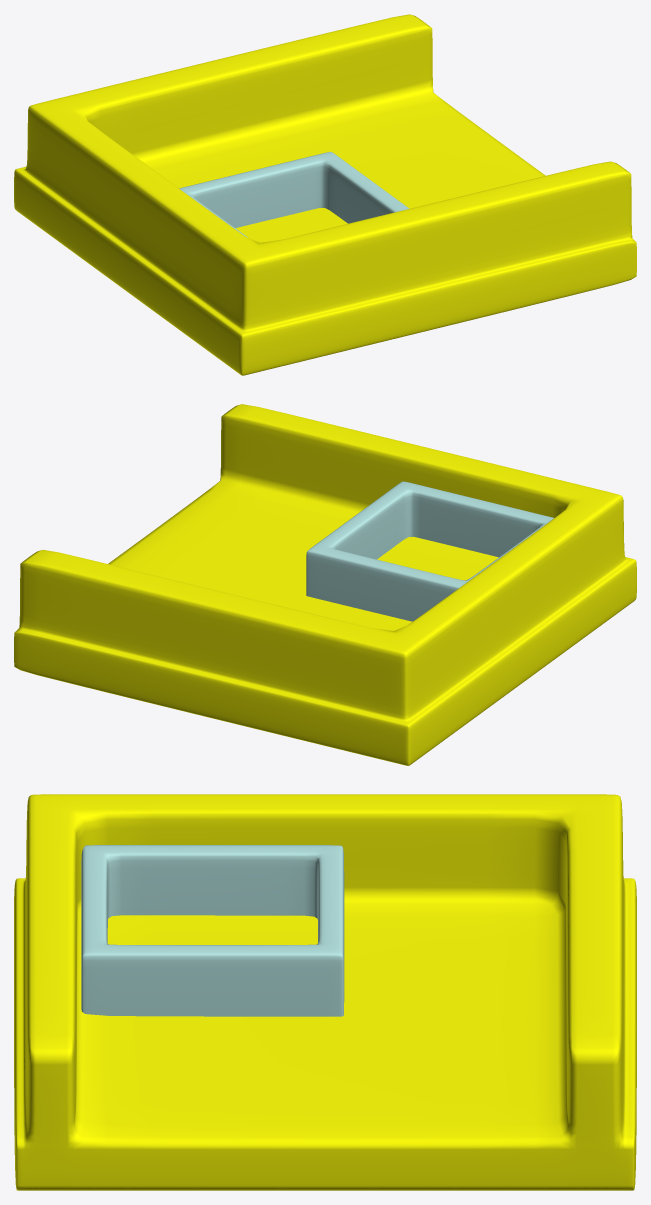
3 views of the same model, one above another, from view 1: azimuth 30°, elevation 25°; view 2: azimuth 150°, elevation 25°; view 3: azimuth 270°, elevation 25° (orthographic). The views are drawn at different scales.
Parts seen in each view (by area): view 1: polySurface1272; view 2: polySurface1272; view 3: polySurface1272.
Boxes of the visible parts, x1,y1,x2,y2 form: polySurface1272: (14, 14, 636, 375); polySurface1272: (14, 404, 636, 765); polySurface1272: (14, 794, 636, 1190).
Size of the model in its own units: 0.9998 by 0.2597 by 0.9997.
